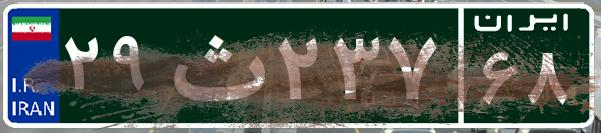2: (273, 28, 330, 110), (57, 26, 110, 107)
3: (330, 28, 385, 110)
6: (475, 38, 525, 113)
7: (385, 28, 445, 110)
8: (525, 38, 570, 115)
9: (110, 28, 158, 105)
ث: (158, 15, 273, 115)
